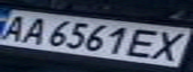1: (103, 24, 133, 56)
5: (63, 20, 90, 52)
6: (39, 18, 72, 48), (84, 21, 109, 54)
A: (12, 15, 51, 45), (0, 12, 33, 43)
E: (124, 26, 169, 60)
X: (145, 28, 193, 63)
